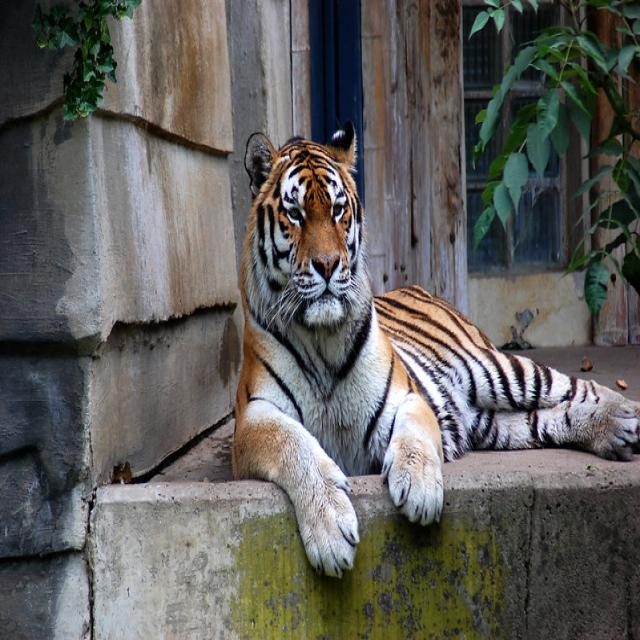Tiger: (230, 122, 636, 572)
